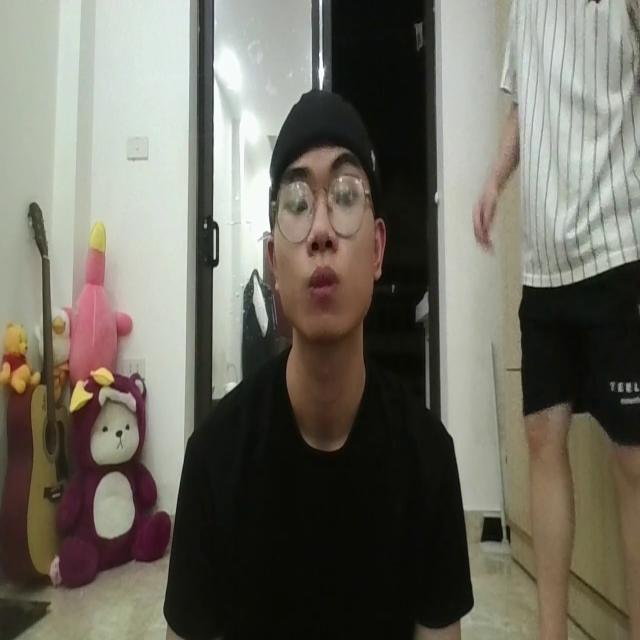extra_person: (470, 0, 640, 640)
student: (158, 74, 470, 640)
